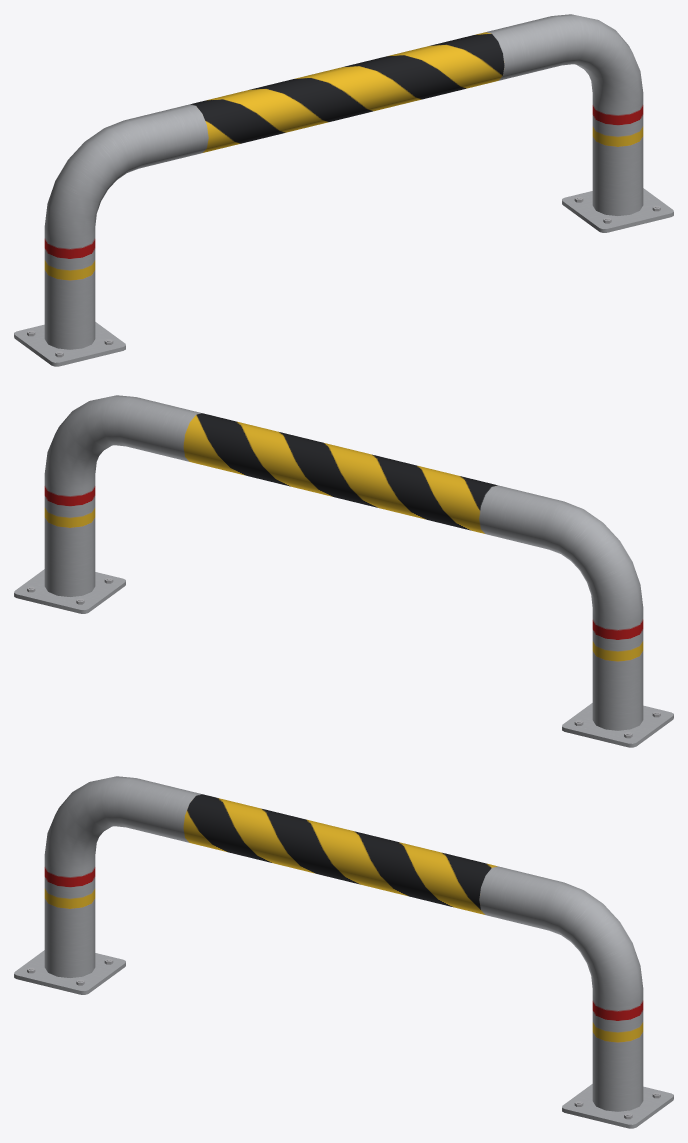
File: SM05_Safety_Bollard_01_U.fbx
The picture shows the model from 3 angles, top to bottom: view 1: azimuth 30°, elevation 25°; view 2: azimuth 150°, elevation 25°; view 3: azimuth 330°, elevation 25°; orthographic projection.
Visible parts, largest first — view 1: SM05_Safety_Bollard_01_U; view 2: SM05_Safety_Bollard_01_U; view 3: SM05_Safety_Bollard_01_U.
Part boxes in pixels (x1,y1,x2,y2): SM05_Safety_Bollard_01_U: [14, 14, 673, 366]; SM05_Safety_Bollard_01_U: [14, 395, 673, 747]; SM05_Safety_Bollard_01_U: [14, 776, 673, 1128].
Size of the model in its own units: 1.26 by 0.4 by 0.15.
